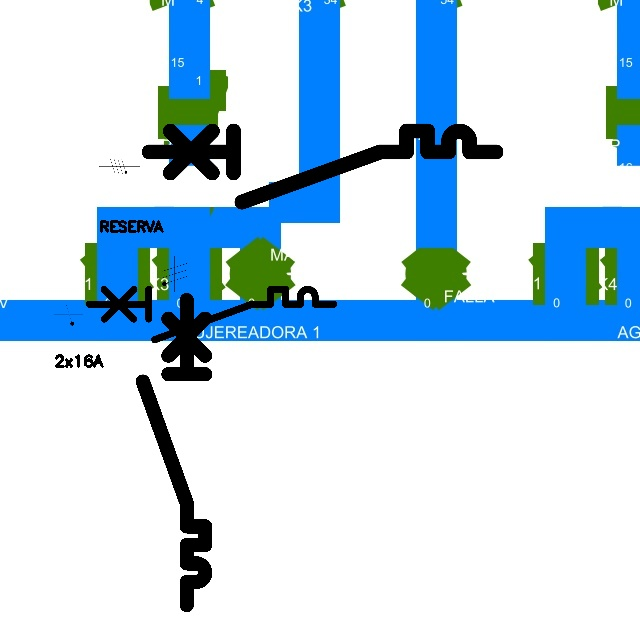interruptor_termomagnetico: (140, 122, 504, 211), (135, 292, 213, 612), (83, 283, 340, 346)
